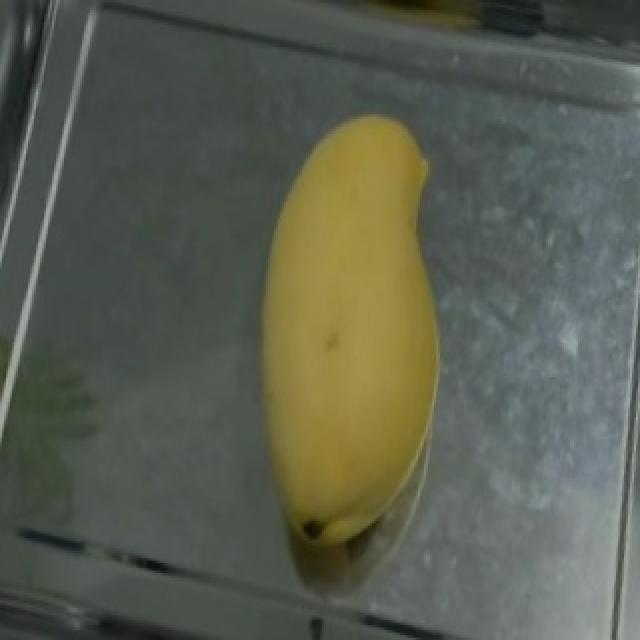fruit: (226, 84, 474, 492)
